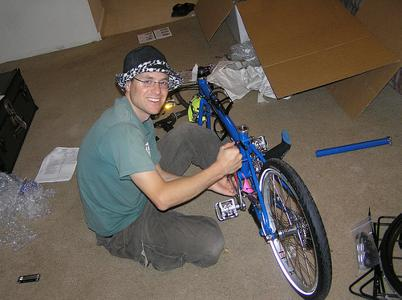person: (73, 41, 242, 274)
